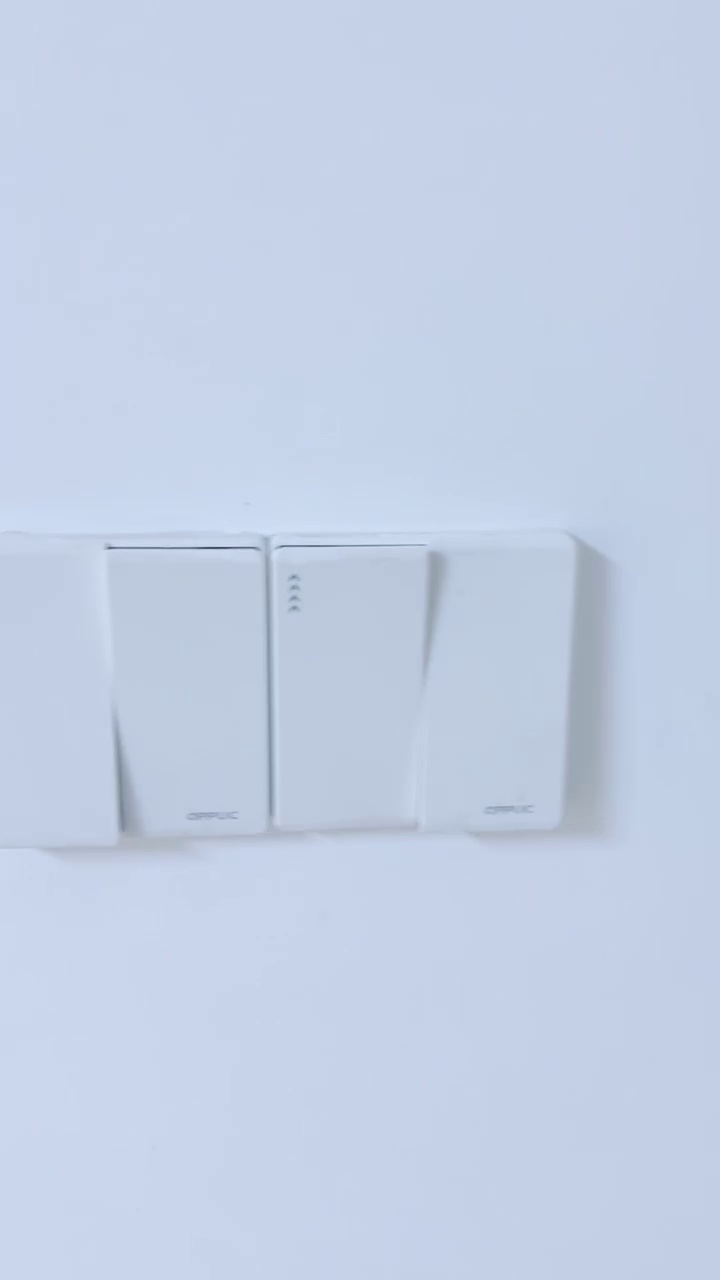button1: (112, 545, 272, 839), (421, 547, 577, 833), (278, 554, 424, 833), (0, 546, 116, 849)
